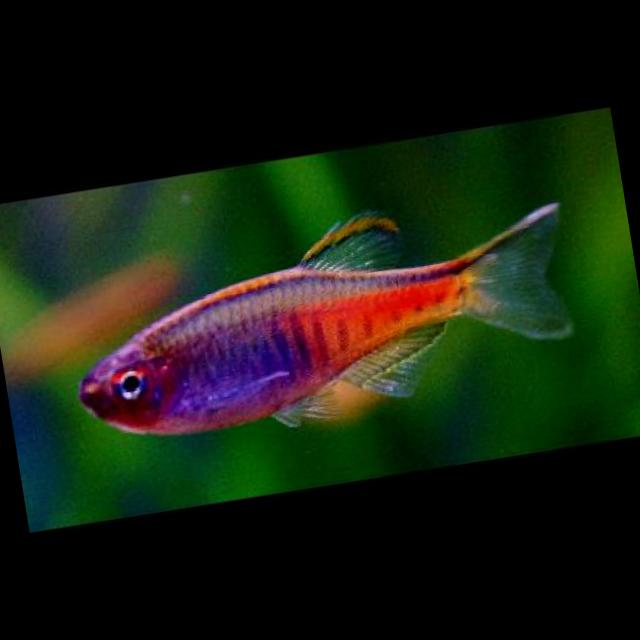ZebraFish: (61, 175, 590, 454)
